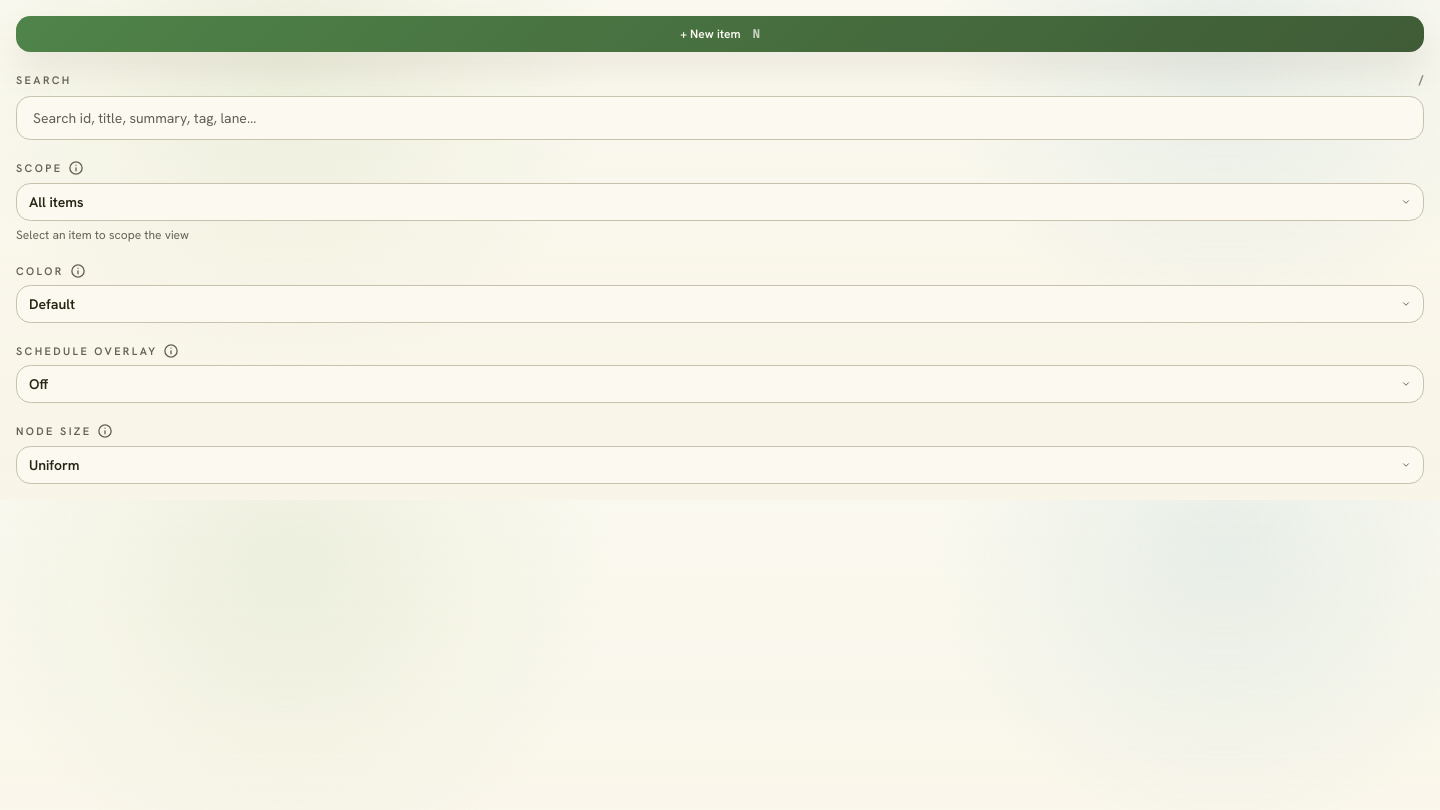
Test: PlanToolbar — display selects (scope / color / overlay / size) › sets the color mode when a color option is picked
Click the dropdown named "Color" at point(52, 304), box [16,285,1424,323]
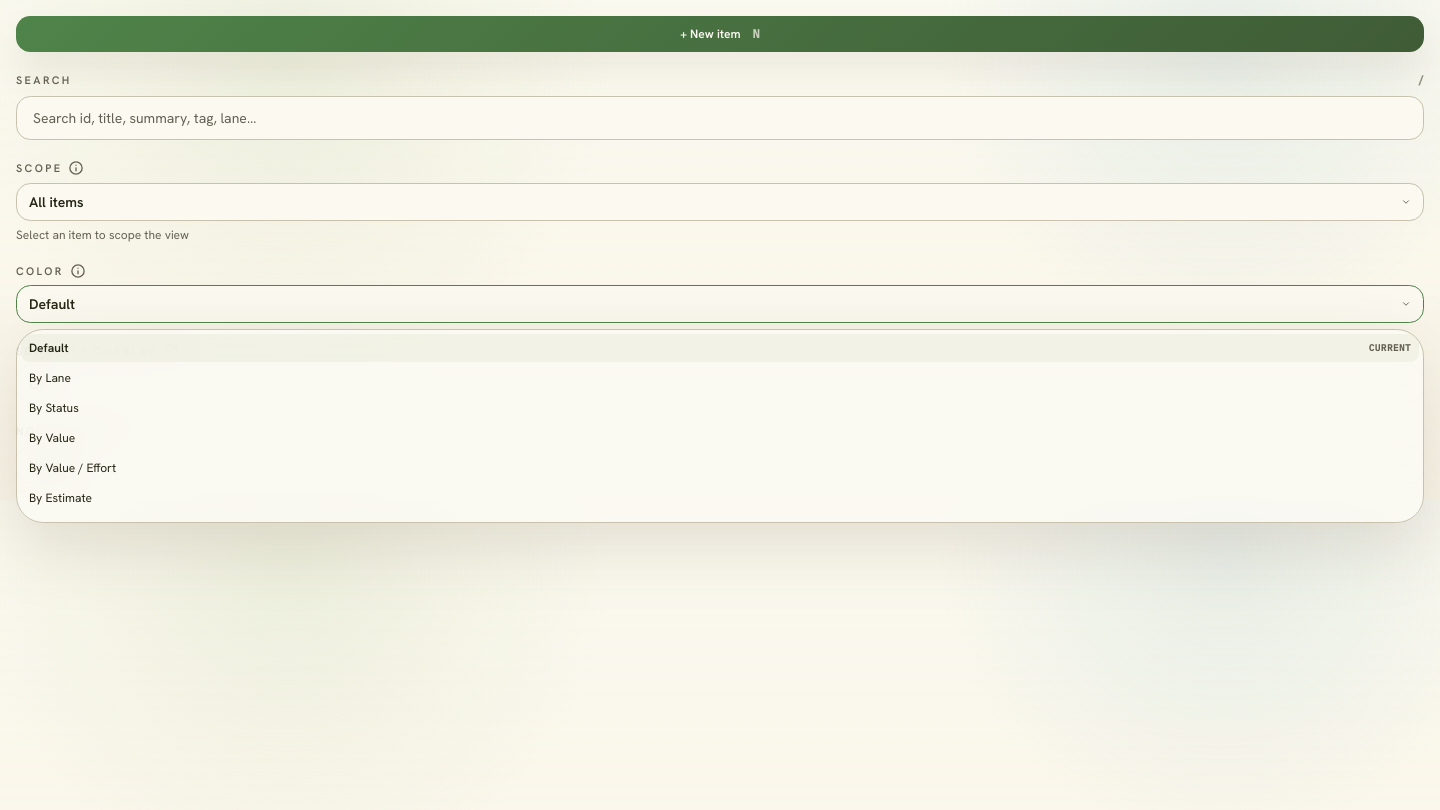
Click the option "By Lane" at point(50, 378), box [29,370,71,386]
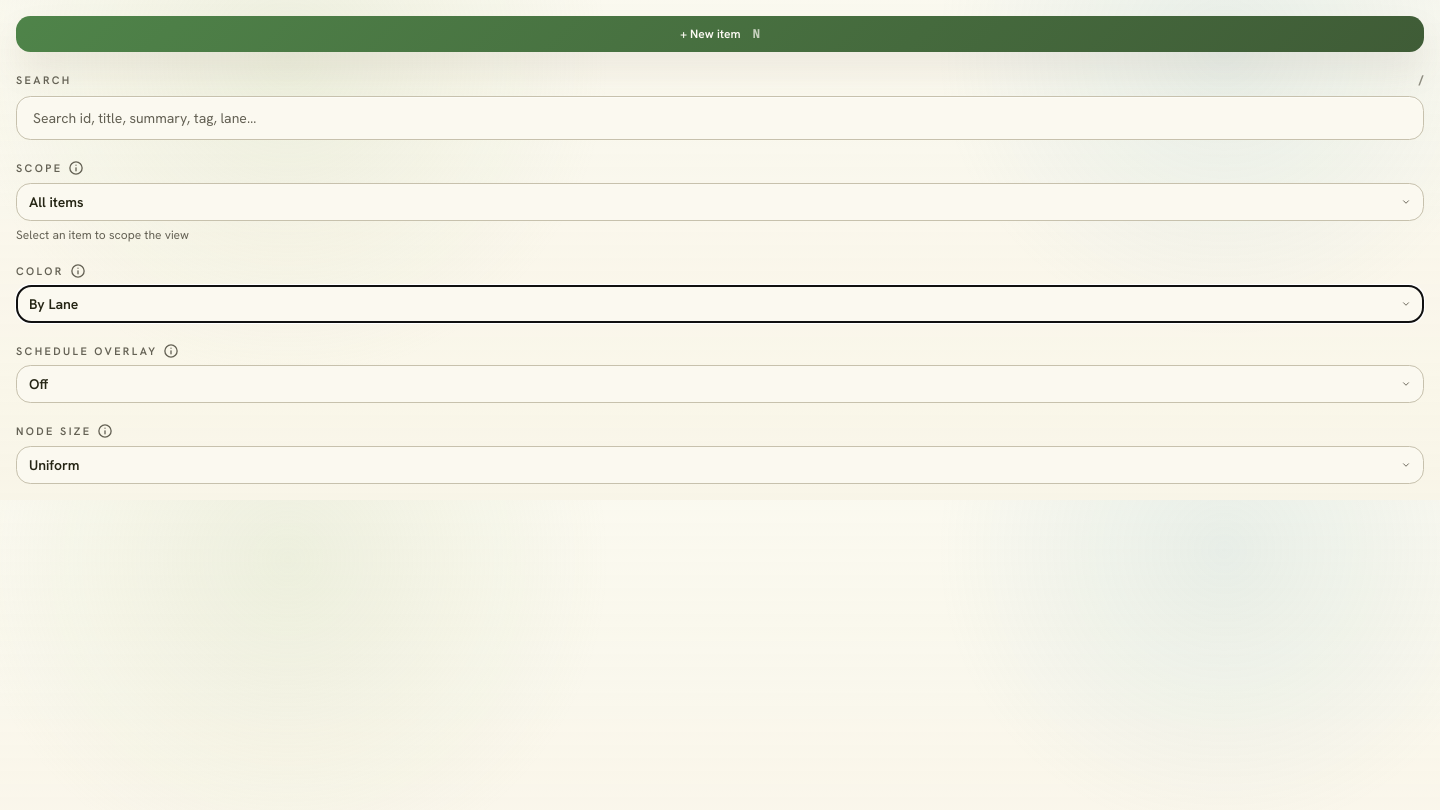
Expected: the dropdown named "Color" reads "By Lane", [16,285,1424,323]
